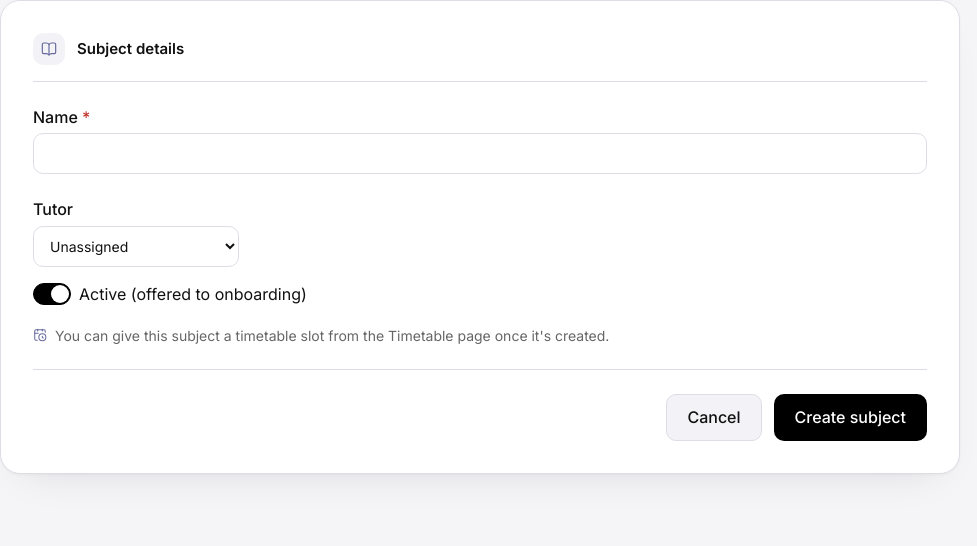
Scenario: SubjectCreatePage › shows field errors from the API and does not navigate
The width and height of the screenshot is (977, 546).
Type "Chemistry" into the field labelled "Name" at coordinates (480, 154), box 33,133 -> 927,174
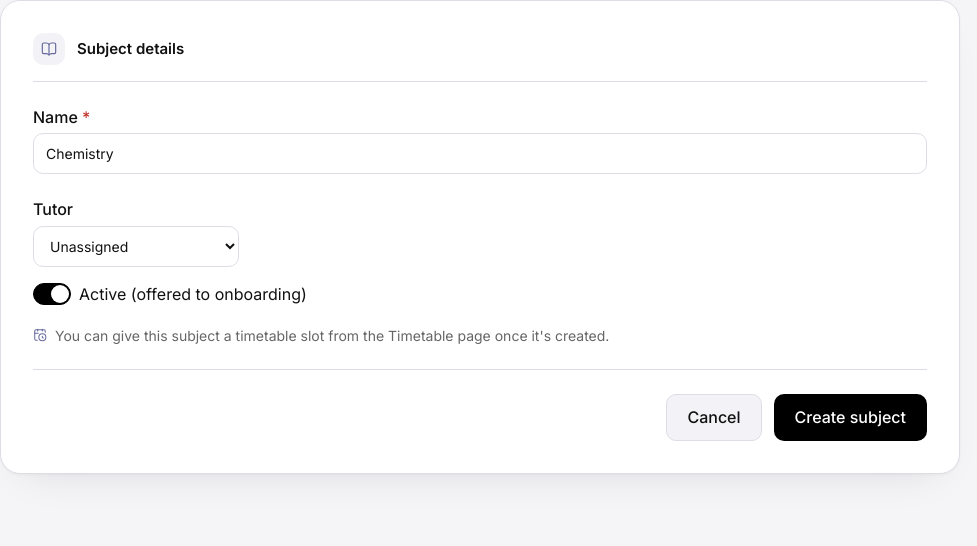
Click the button "Create subject" at coordinates (850, 418), box 774,394 -> 927,441
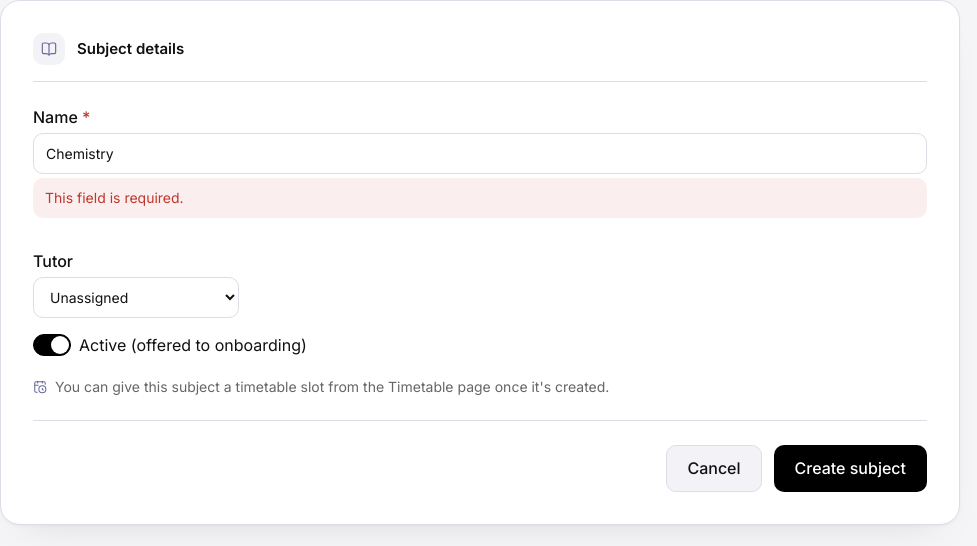
Result: the list item "This field is required." is shown at 45,189 -> 184,206
